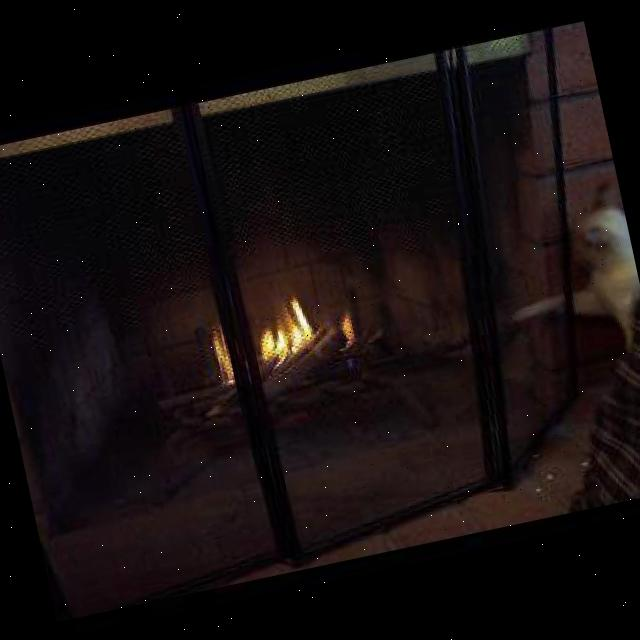fire: (197, 275, 366, 386)
